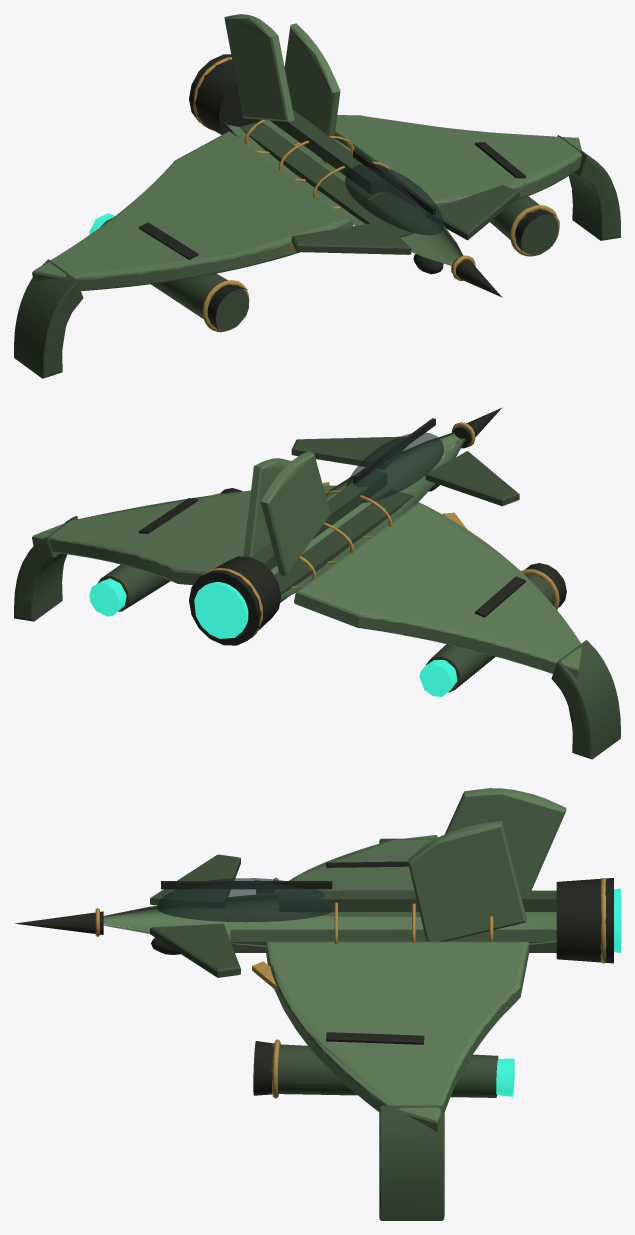
The model's file is raptor-interceptor-lod1.glb.
3 views of the same model, one above another, from view 1: azimuth 30°, elevation 25°; view 2: azimuth 150°, elevation 25°; view 3: azimuth 270°, elevation 25° (orthographic). The views are drawn at different scales.
Visible parts, largest first — view 1: object 1, tailfin_port, tailfin_starboard; view 2: object 1, tailfin_port, tailfin_starboard; view 3: object 1, tailfin_starboard, tailfin_port.
Boxes of the visible parts, <box> form: object 1: <box>14,54,620,378</box>; tailfin_port: <box>224,14,294,121</box>; tailfin_starboard: <box>284,23,340,163</box>; object 1: <box>14,407,620,759</box>; tailfin_port: <box>260,451,330,576</box>; tailfin_starboard: <box>243,458,290,556</box>; object 1: <box>15,835,620,1220</box>; tailfin_starboard: <box>408,821,526,941</box>; tailfin_port: <box>445,788,566,890</box>.
Bounding box in the file's own units: 17.58 × 7.31 × 14.88.
